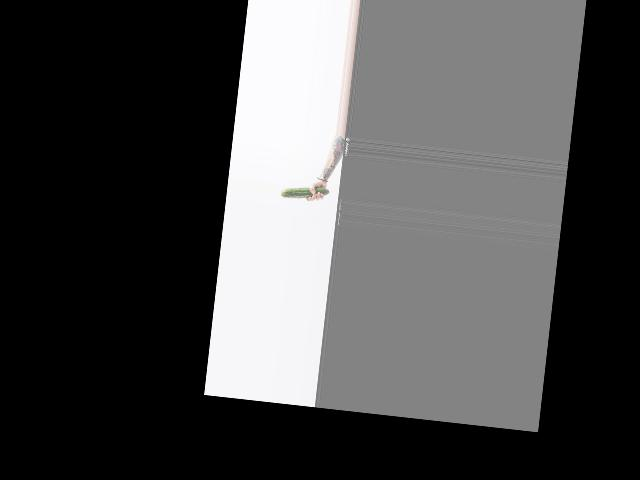cucumber: (280, 183, 329, 203)
